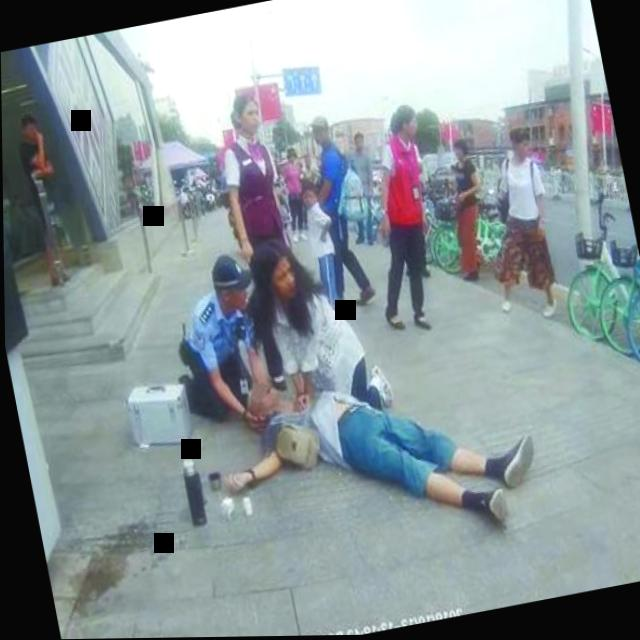Fall-Detected: (213, 333, 557, 578)
